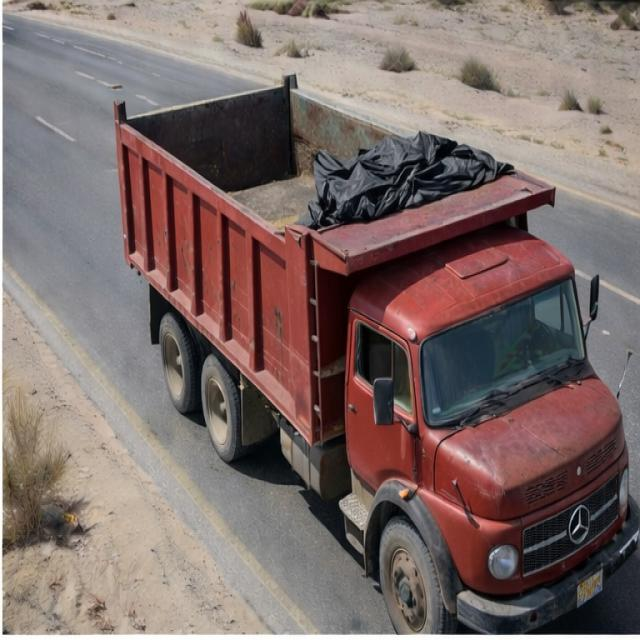Box: (113, 74, 542, 268)
Truck: (110, 36, 640, 632)
